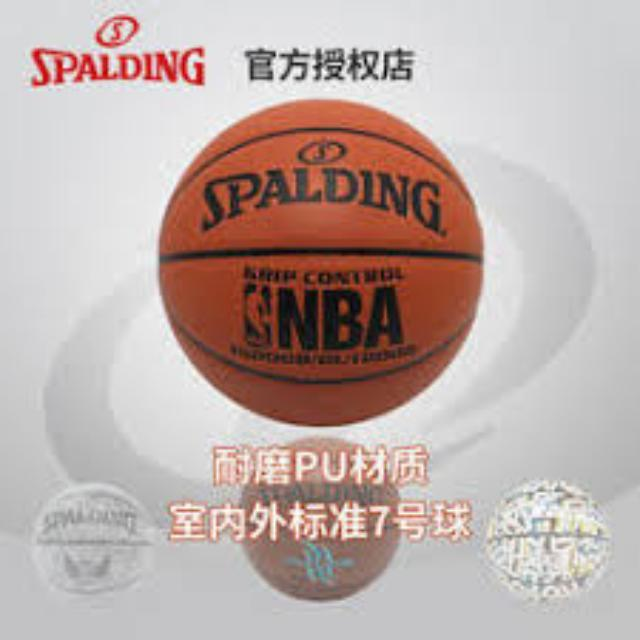basketball: (161, 102, 481, 426)
